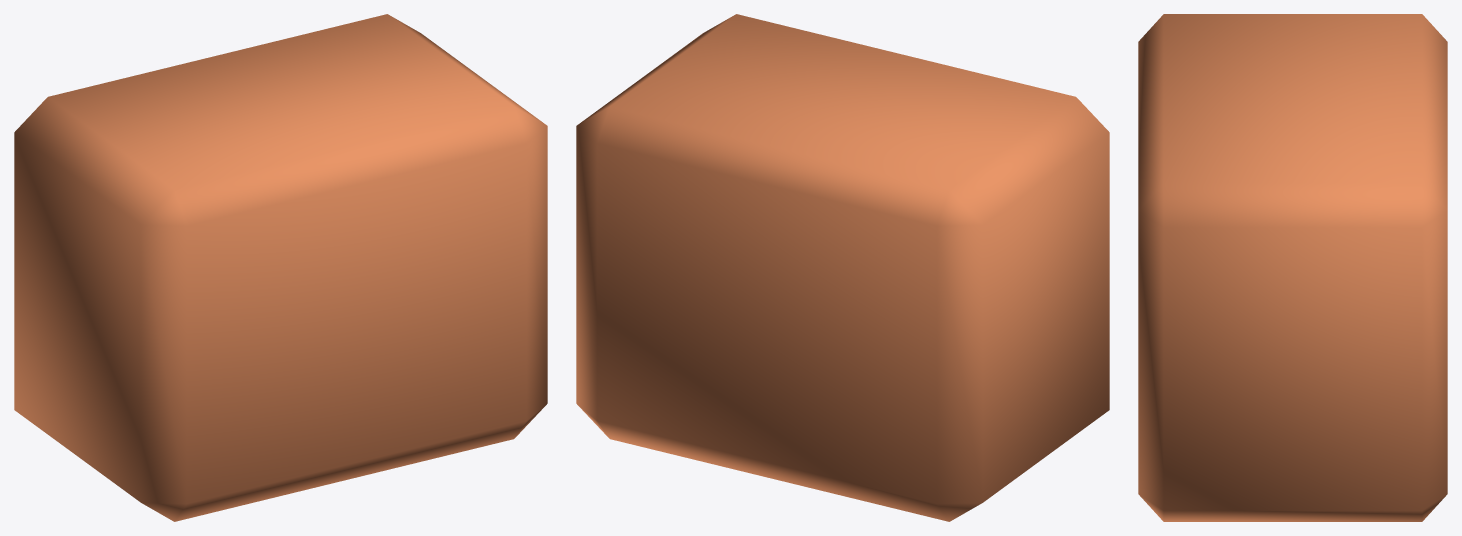
Rendered from Lievito_pane.fbx.
3 renders of one model, left to right at view 1: azimuth 30°, elevation 25°; view 2: azimuth 150°, elevation 25°; view 3: azimuth 270°, elevation 25°, orthographic.
Visible parts, largest first — view 1: Lievito_pane; view 2: Lievito_pane; view 3: Lievito_pane.
Boxes of the visible parts, x1=… form: Lievito_pane: x1=14, y1=14, x2=547, y2=521; Lievito_pane: x1=576, y1=14, x2=1109, y2=521; Lievito_pane: x1=1138, y1=14, x2=1447, y2=521.
Bounding box in the file's own units: 9.04 × 7.06 × 5.84.
